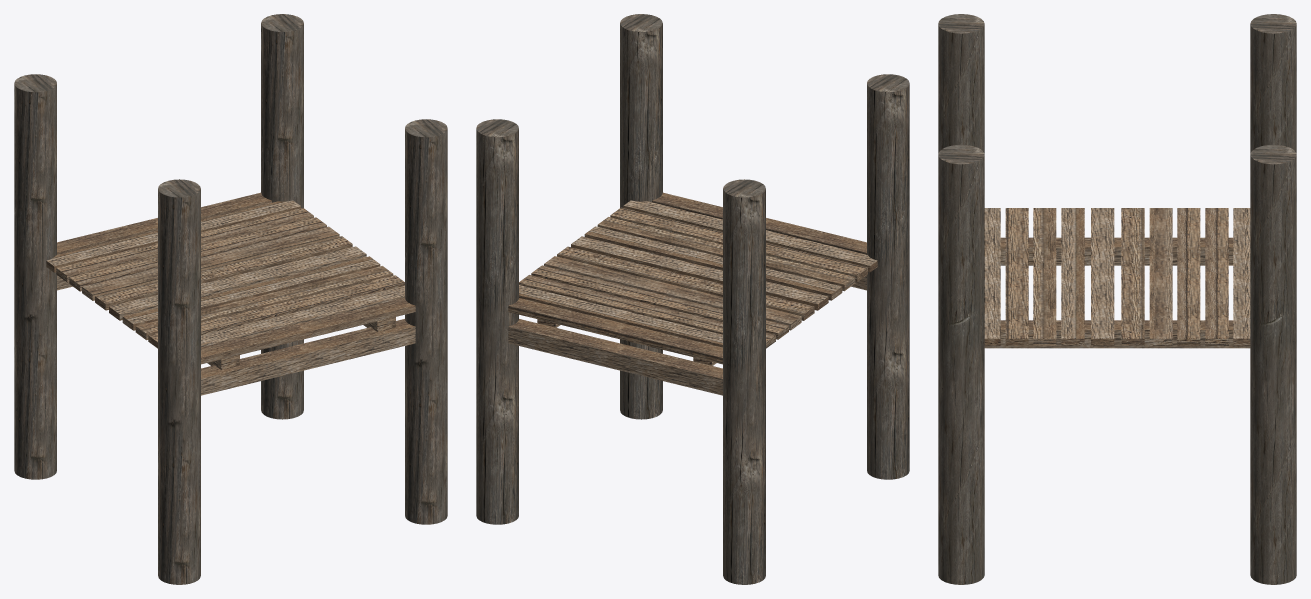
File: entero.fbx
The picture shows the model from 3 angles, left to right: view 1: azimuth 30°, elevation 25°; view 2: azimuth 150°, elevation 25°; view 3: azimuth 270°, elevation 25°; orthographic projection. The views are drawn at different scales.
Visible parts, largest first — view 1: Viga; view 2: Viga; view 3: Viga.
Part boxes in pixels (left/top/right/bottom): Viga: left=14, top=14, right=447, bottom=584; Viga: left=476, top=14, right=909, bottom=584; Viga: left=938, top=14, right=1296, bottom=584.
Size of the model in its own units: 460 by 600 by 464.
Materials: 2 (2 with a texture image).
